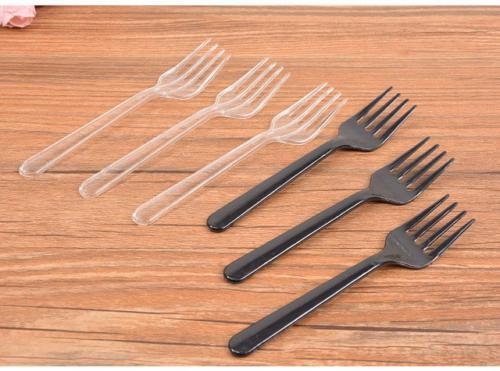Fork: (228, 193, 475, 355), (222, 137, 455, 282), (133, 81, 347, 227), (206, 85, 417, 232), (18, 37, 232, 178), (79, 56, 290, 199)
